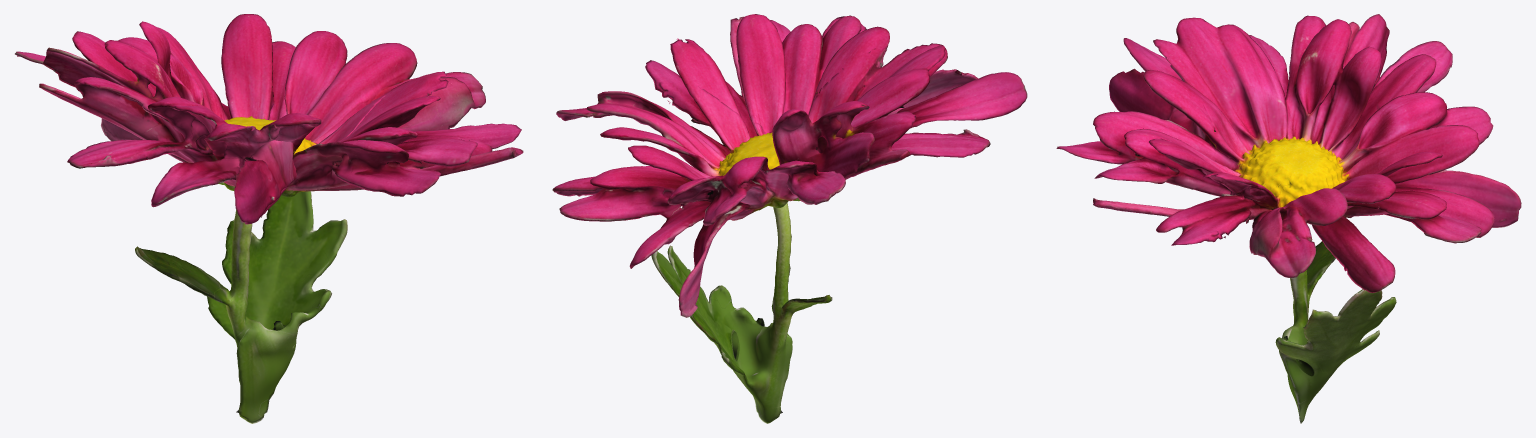
File: HoaDongTien.glb
3 views of the same model, side by side, from view 1: azimuth 30°, elevation 25°; view 2: azimuth 150°, elevation 25°; view 3: azimuth 270°, elevation 25° (orthographic). The views are drawn at different scales.
Visible parts, largest first — view 1: Object_2; view 2: Object_2; view 3: Object_2.
Boxes of the visible parts, x1,y1,x2,y2 form: Object_2: [15, 14, 523, 423]; Object_2: [552, 14, 1027, 423]; Object_2: [1056, 14, 1521, 423].
Bounding box in the file's own units: 5.31 × 4.54 × 5.47.
1 material, 1 textured.
